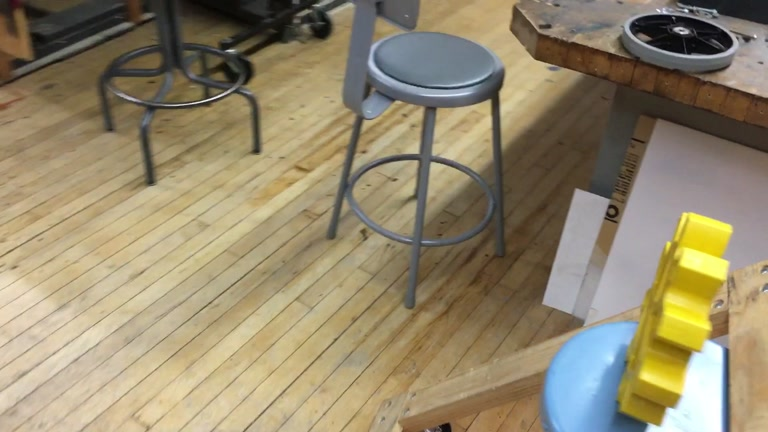gear: (617, 212, 733, 428)
